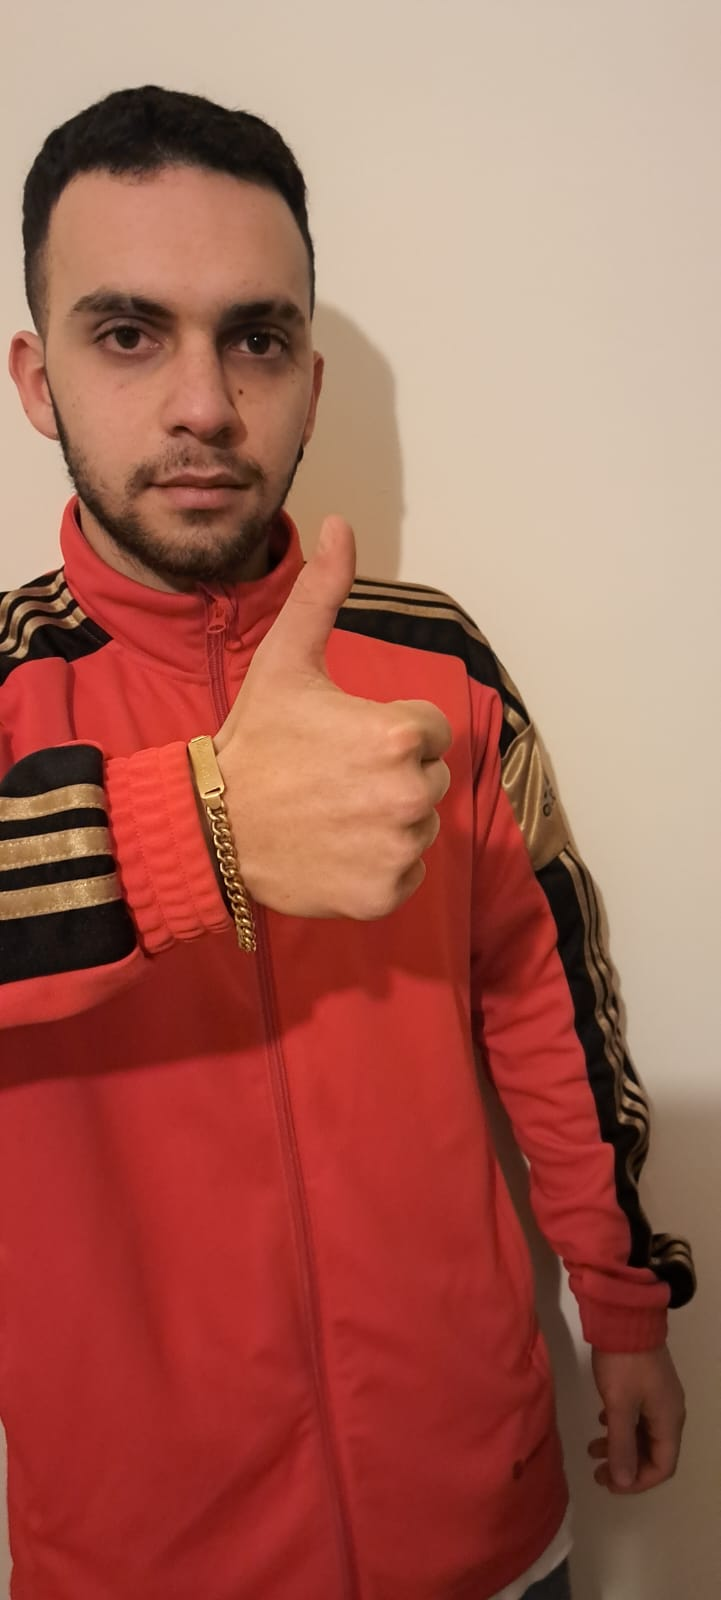okay: (226, 508, 458, 942)
